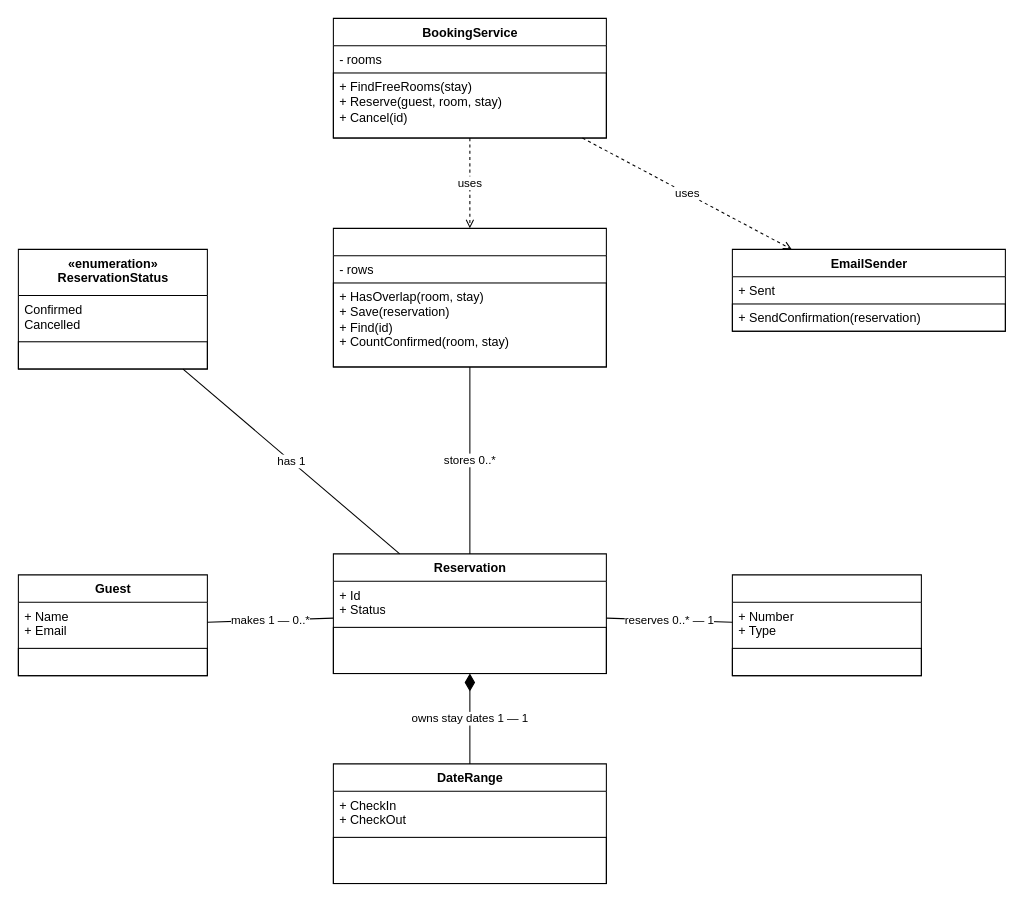
This 1024x905 diagram has some shape labels left out. The shapes that lost their labels are listed below. From the top down, each one's box as (x1, y1, x2, y2) in pixels, then its label:
(332, 227, 606, 367): ReservationStore
(731, 574, 921, 676): Room
(332, 626, 606, 674): + Blocks(room, stay) + Cancel()
(332, 836, 606, 884): + IsValid() + Overlaps(other)
